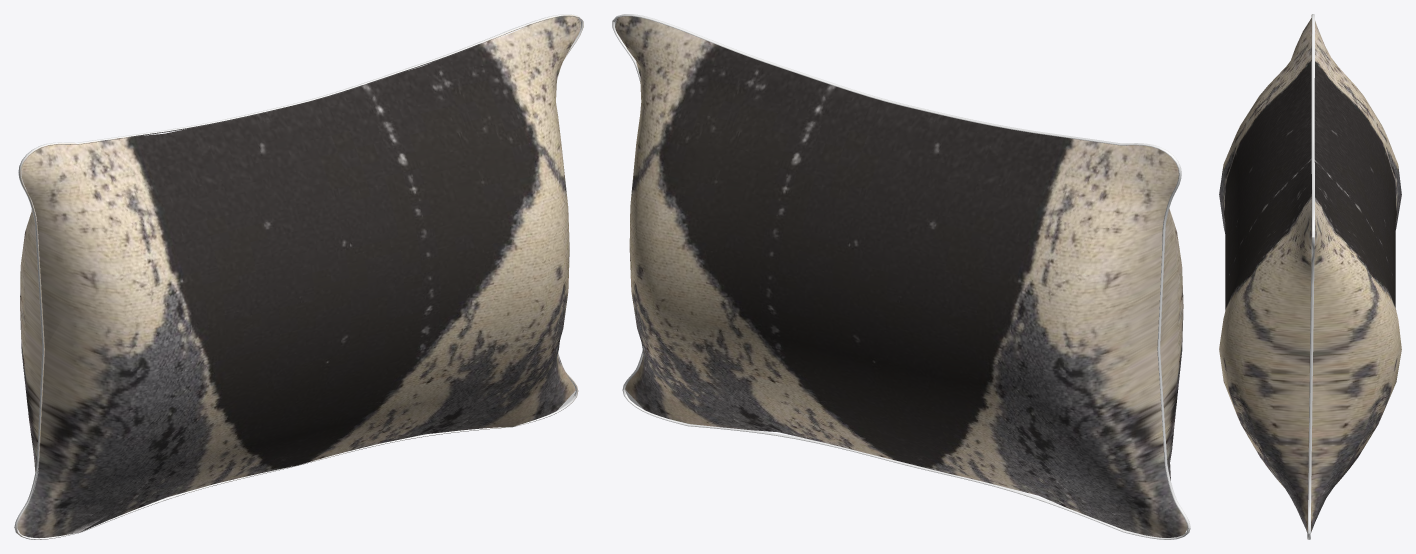
File: Nero_ChevronCushion-Lumbar.glb
The picture shows the model from 3 angles, left to right: view 1: azimuth 30°, elevation 25°; view 2: azimuth 150°, elevation 25°; view 3: azimuth 270°, elevation 25°; orthographic projection. The views are drawn at different scales.
Visible parts, largest first — view 1: model 7; view 2: model 7; view 3: model 7.
Part boxes in pixels (x1,y1,x2,y2): model 7: (14, 14, 583, 539); model 7: (612, 14, 1190, 539); model 7: (1219, 14, 1401, 539).
Size of the model in its own units: 0.6 by 0.4 by 0.2036.
Materials: 2 (1 with a texture image).
